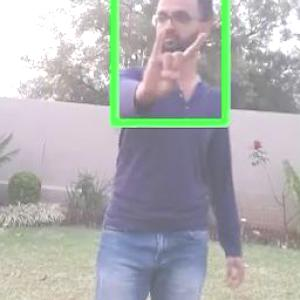takeoff-hand: (136, 20, 209, 108)
